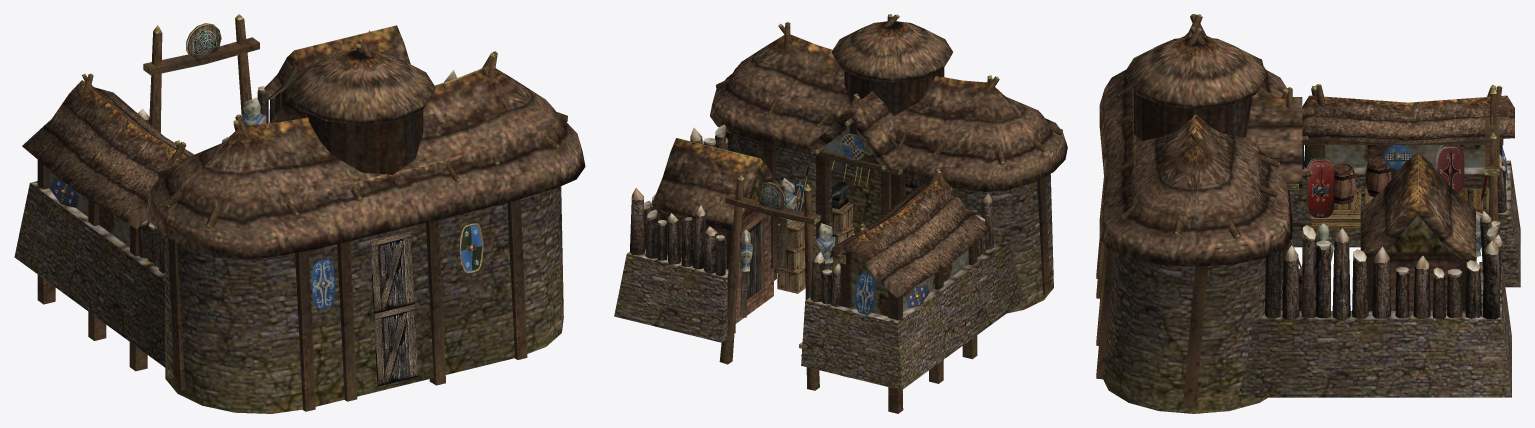
File: brit_barracks.glb
3 renders of one model, left to right at view 1: azimuth 30°, elevation 25°; view 2: azimuth 150°, elevation 25°; view 3: azimuth 270°, elevation 25°, orthographic. The views are drawn at different scales.
Visible parts, largest first — view 1: brit_barracks_part0, brit_barracks_part3, brit_barracks_part1, brit_barracks_part2; view 2: brit_barracks_part0, brit_barracks_part2, brit_barracks_part3, brit_barracks_part1; view 3: brit_barracks_part0, brit_barracks_part2, brit_barracks_part3, brit_barracks_part4, brit_barracks_part1.
Boxes of the visible parts, <box> form: brit_barracks_part0: <box>14,14,585,413</box>; brit_barracks_part3: <box>222,97,418,386</box>; brit_barracks_part1: <box>49,23,483,309</box>; brit_barracks_part2: <box>137,30,456,273</box>; brit_barracks_part0: <box>614,14,1067,413</box>; brit_barracks_part2: <box>630,124,993,306</box>; brit_barracks_part3: <box>739,177,926,355</box>; brit_barracks_part1: <box>757,133,929,314</box>; brit_barracks_part0: <box>1096,14,1520,413</box>; brit_barracks_part2: <box>1265,142,1506,319</box>; brit_barracks_part3: <box>1298,145,1487,310</box>; brit_barracks_part4: <box>1310,188,1489,229</box>; brit_barracks_part1: <box>1384,114,1508,181</box>.
Bounding box in the file's own units: 4 × 3.16 × 3.76.
6 materials, 6 textured.
